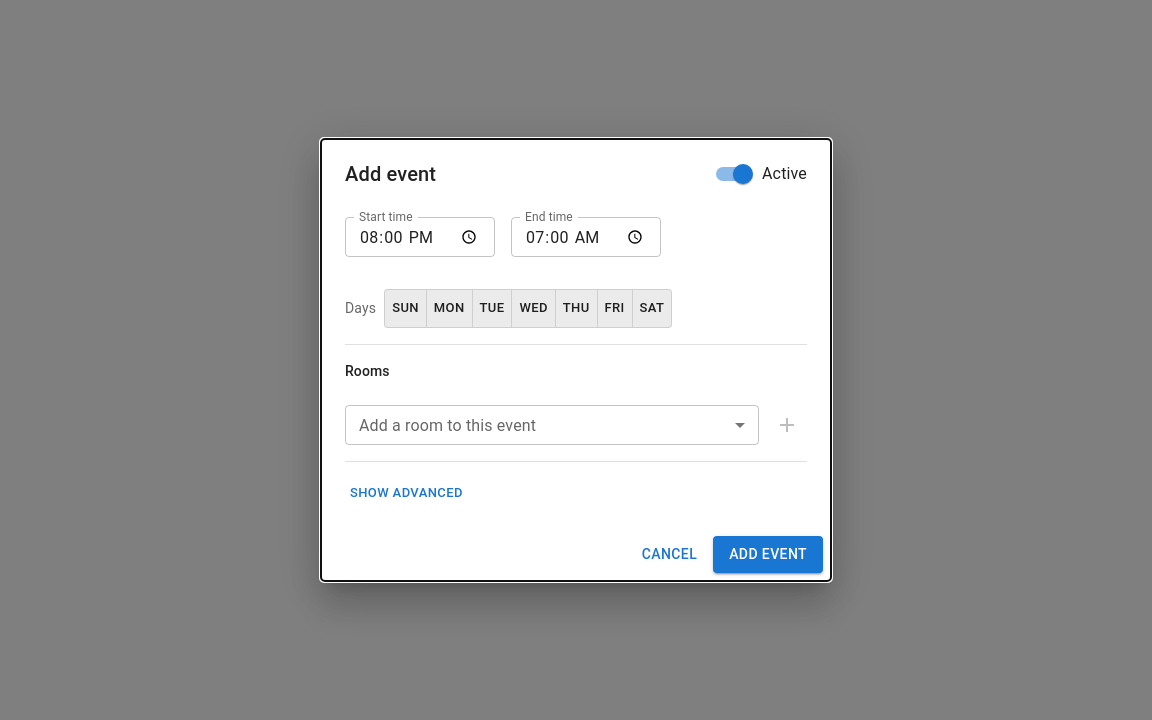
Test case: EventEditorDialog › the Advanced section is collapsed by default and reveals only the driving-zone picker
Expected: the dropdown labelled "Driving zone — Upstairs" is not shown
Click the button "Show advanced".
click(406, 493)  # box [345,478,468,508]
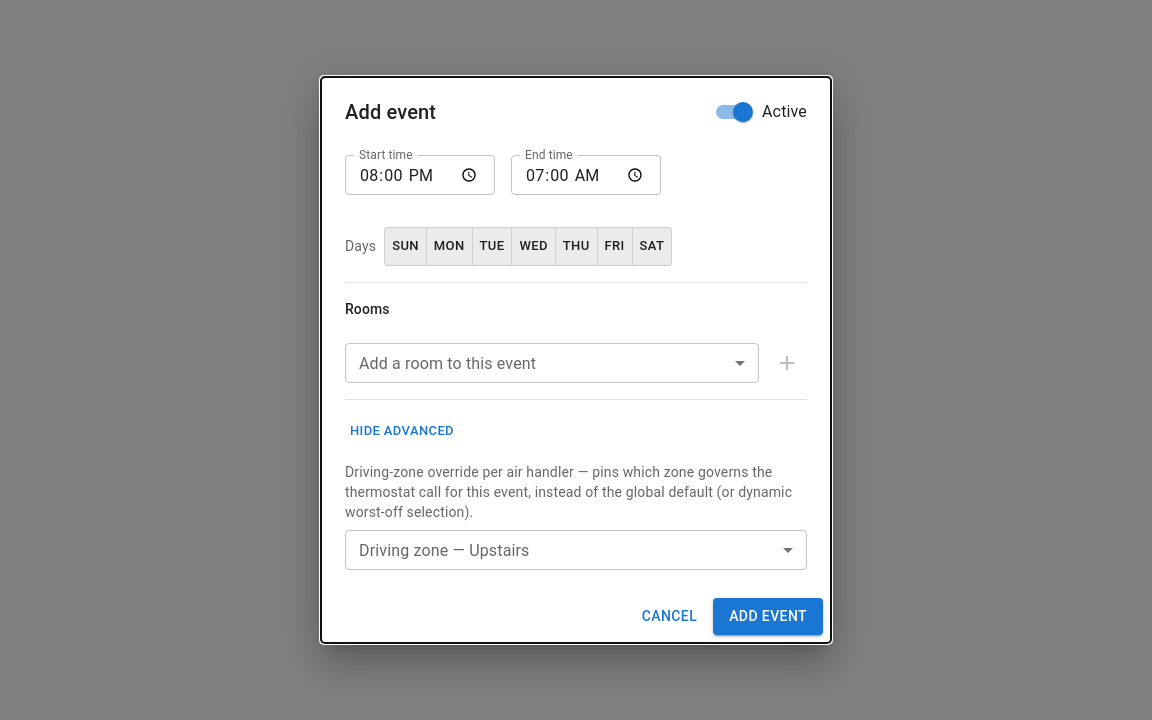
Result: the dropdown named "Driving zone — Upstairs" next to "Driving zone — Upstairs" is shown at [345,530,807,570]
